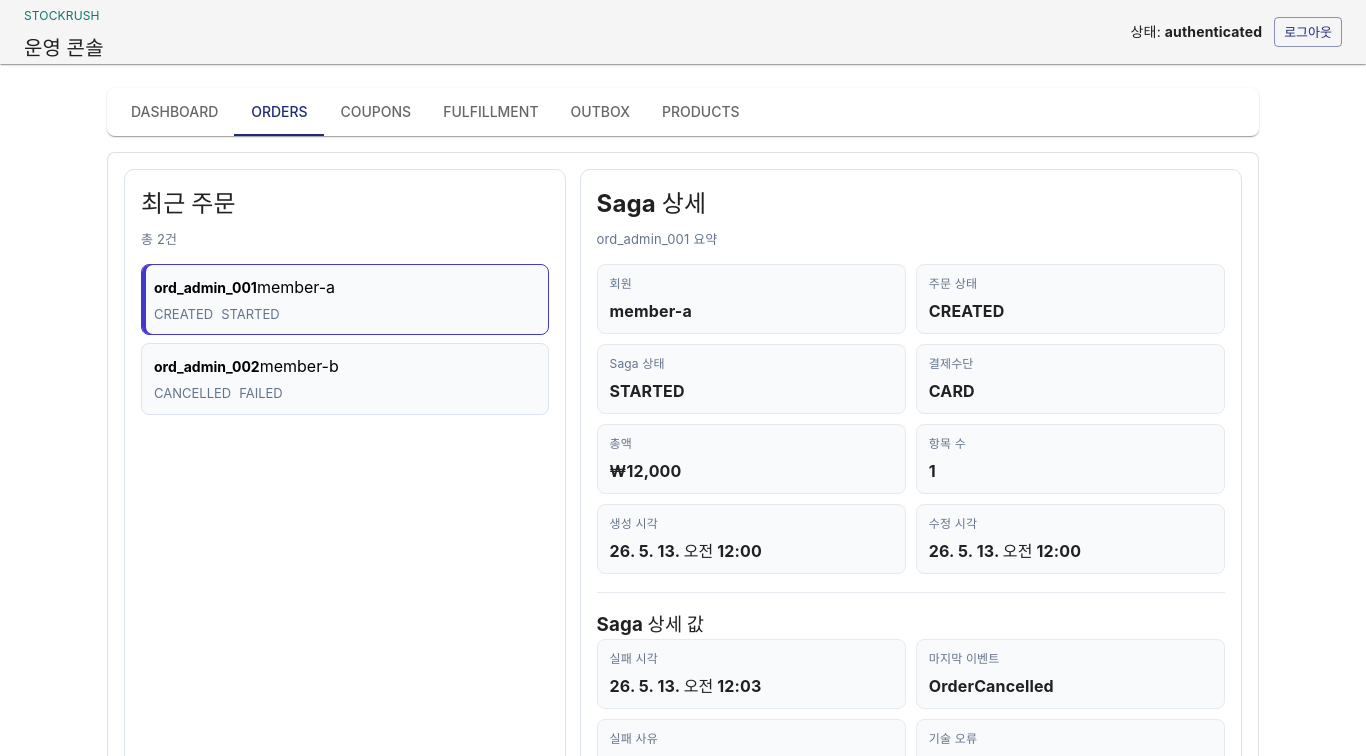
Test: admin app operations › shows coupon usage error when history request fails
This screenshot has width=1366, height=756.
Click the tab "Coupons" at {"x": 376, "y": 112}, box [324, 88, 427, 136]
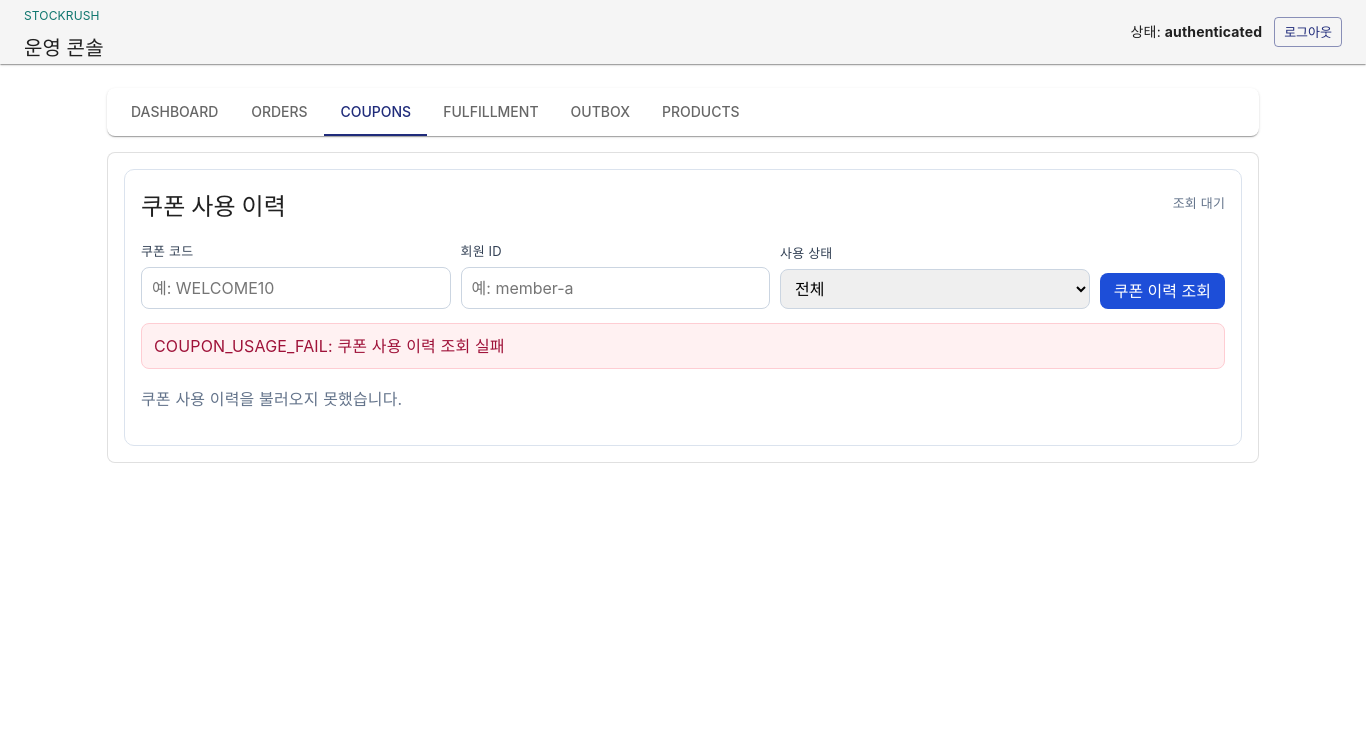
Expected: the message reads "COUPON_USAGE_FAIL: 쿠폰 사용 이력 조회 실패", [154, 336, 505, 356]
Expected: the text "쿠폰 사용 이력을 불러오지 못했습니다." is shown, [141, 389, 402, 409]
